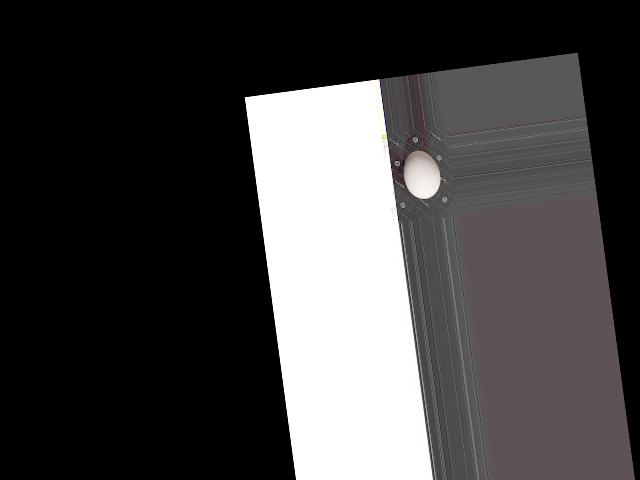egg: (400, 148, 442, 201)
